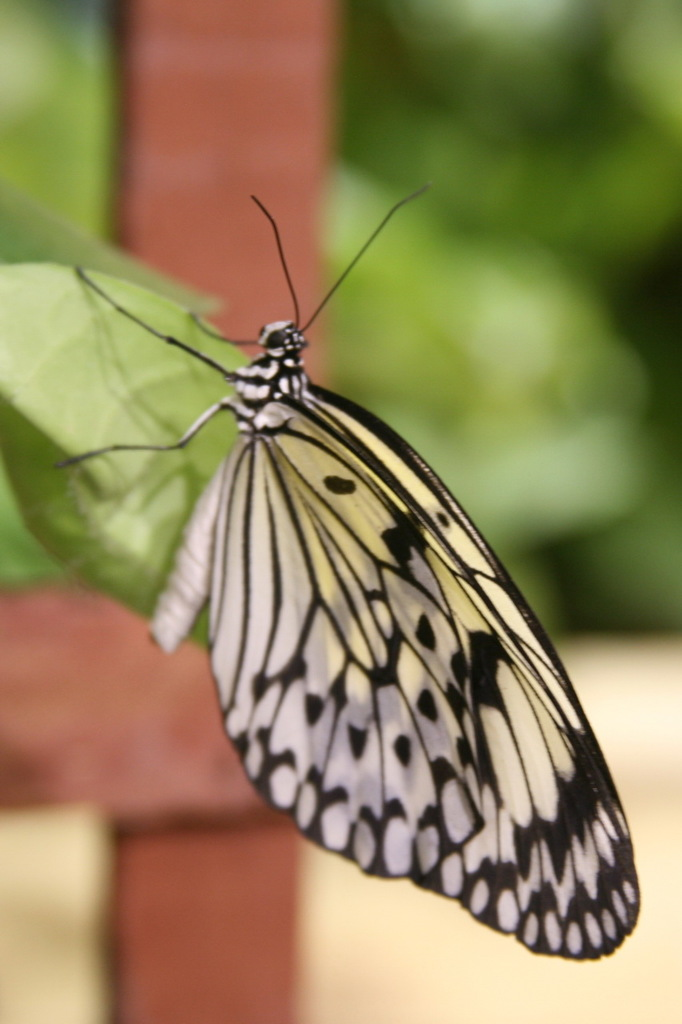Butterfly: (71, 235, 654, 949)
